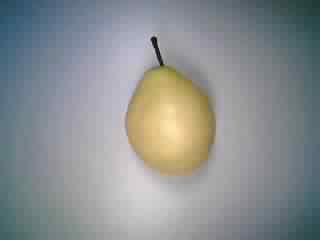pear: (107, 30, 230, 182)
